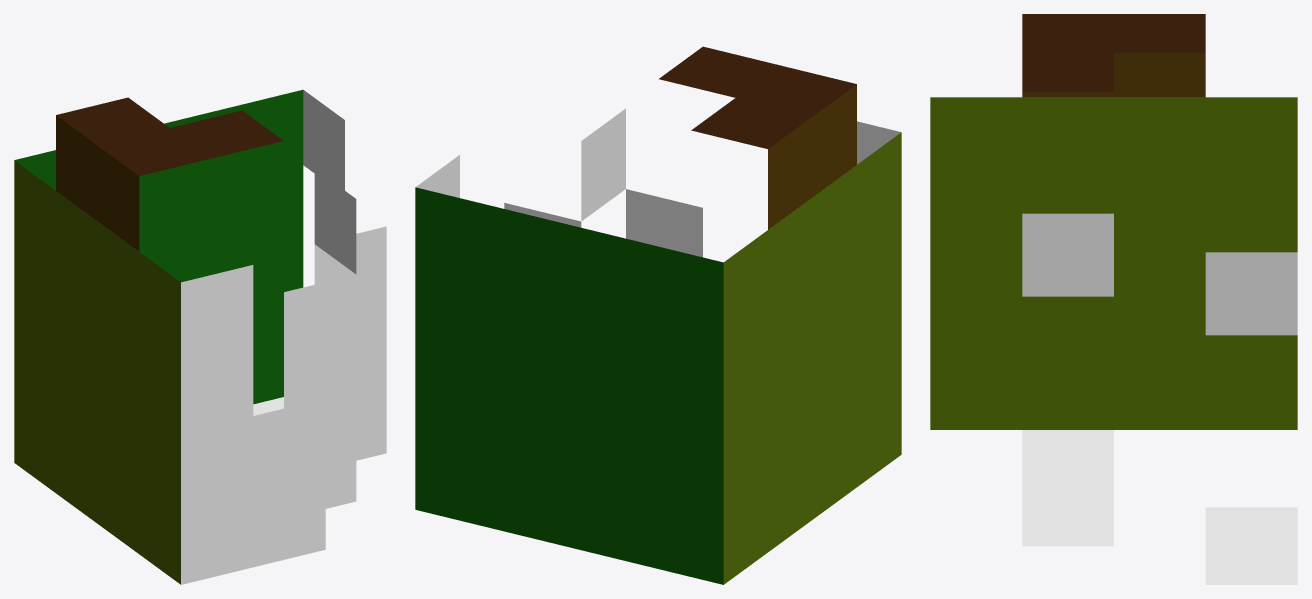
Rendered from block_31.fbx.
3 views of the same model, side by side, from view 1: azimuth 30°, elevation 25°; view 2: azimuth 150°, elevation 25°; view 3: azimuth 270°, elevation 25° (orthographic). The views are drawn at different scales.
Parts seen in each view (by area): view 1: box; view 2: box; view 3: box.
Part boxes in pixels (<box>): box: <box>14,89,386,584</box>; box: <box>415,46,901,584</box>; box: <box>930,14,1297,584</box>.
Bounding box in the file's own units: 4 × 4 × 5.
Materials: 1 (1 with a texture image).
